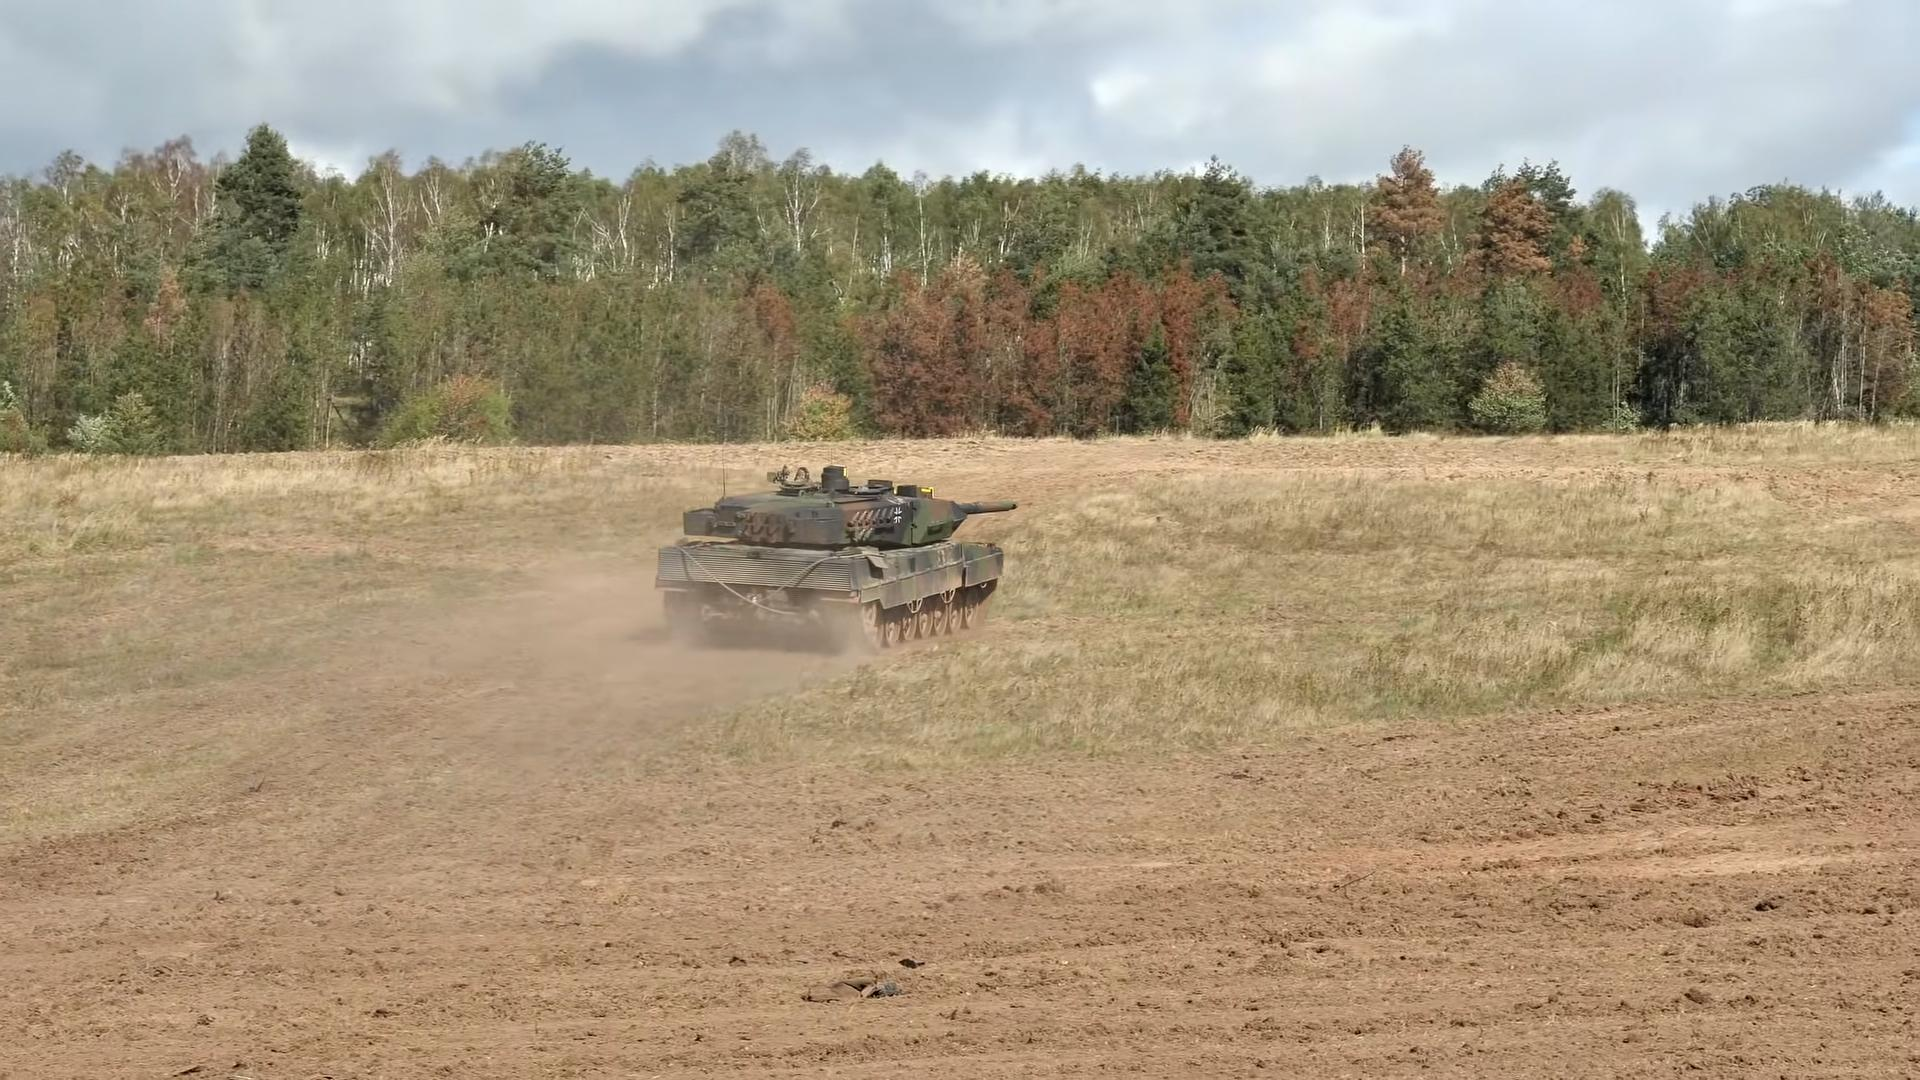tank: (657, 465, 1017, 655)
